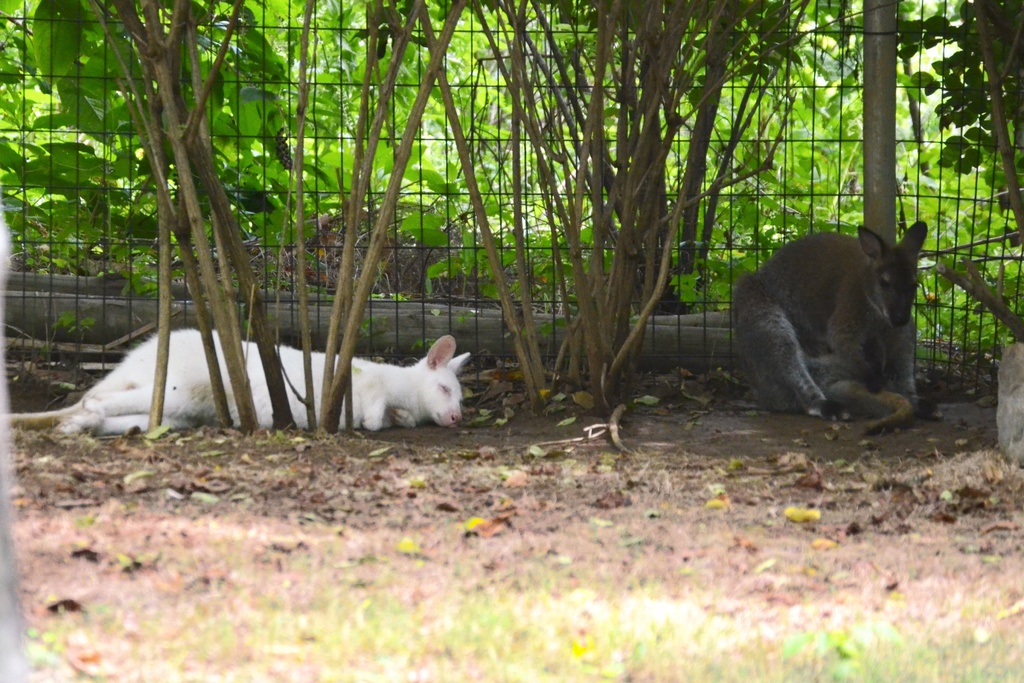kangaroo: (739, 220, 938, 440)
